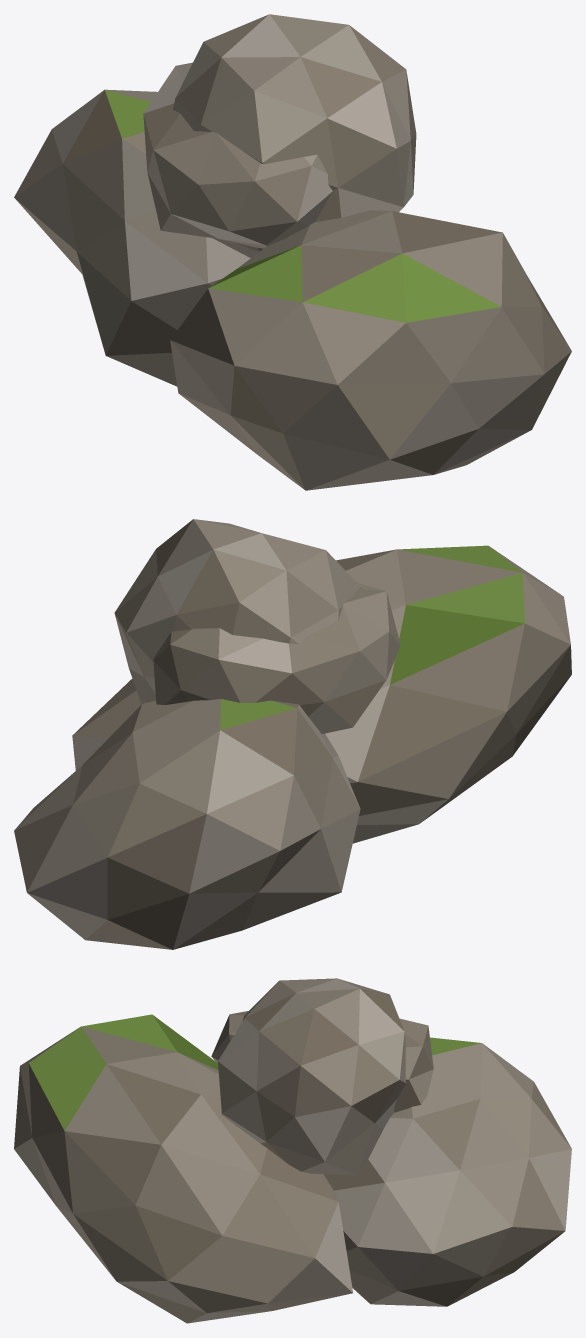
File: CollapsedRocks_a.fbx
The picture shows the model from 3 angles, top to bottom: view 1: azimuth 30°, elevation 25°; view 2: azimuth 150°, elevation 25°; view 3: azimuth 270°, elevation 25°; orthographic projection. The views are drawn at different scales.
Parts seen in each view (by area): view 1: CollapsedRocks_a; view 2: CollapsedRocks_a; view 3: CollapsedRocks_a.
Boxes of the visible parts, left/top/right/bottom form: CollapsedRocks_a: left=14, top=14, right=571, bottom=490; CollapsedRocks_a: left=14, top=519, right=571, bottom=949; CollapsedRocks_a: left=14, top=978, right=571, bottom=1323.
Size of what is drawn, in the model's own units: 57.76 by 54.65 by 91.25.
